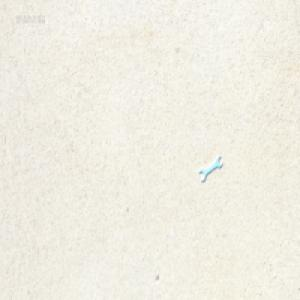Wrench: (199, 154, 223, 181)
